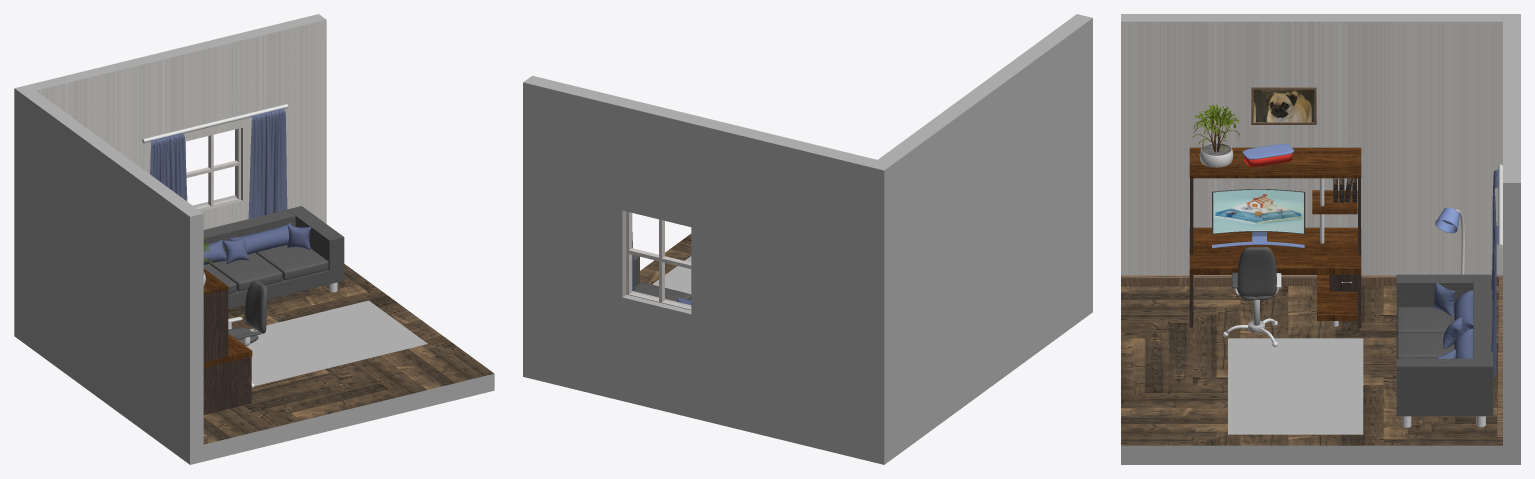
Rendered from night-room.glb.
3 views of the same model, side by side, from view 1: azimuth 30°, elevation 25°; view 2: azimuth 150°, elevation 25°; view 3: azimuth 270°, elevation 25° (orthographic). The views are drawn at different scales.
Visible parts, largest first — view 1: Plane, Plane.005, Plane.006, Cube.009, Cube, Cube.001, Plane.007, Plane.012, Cube.022, Cylinder.006, Plane.009, Plane.010; view 2: Plane, Plane.012, Plane.005; view 3: Plane, Cube.009, Plane.005, Cube, Plane.002, Plane.001, Cube.001, Plane.004, Cube.021, Plane.007, Plane.006, leaves (+6 smaller).
Boxes of the visible parts, <box> form: Plane: <box>14,14,494,464</box>; Plane.005: <box>246,300,427,385</box>; Plane.006: <box>150,108,287,218</box>; Cube.009: <box>203,268,252,414</box>; Cube: <box>203,206,344,308</box>; Cube.001: <box>203,245,328,294</box>; Plane.007: <box>203,223,291,264</box>; Plane.012: <box>185,128,240,209</box>; Cube.022: <box>244,280,265,333</box>; Cylinder.006: <box>142,104,288,143</box>; Plane.009: <box>222,236,249,263</box>; Plane.010: <box>287,225,311,249</box>; Plane: <box>523,14,1092,464</box>; Plane.012: <box>626,211,691,310</box>; Plane.005: <box>652,256,691,294</box>; Plane: <box>1121,14,1520,464</box>; Cube.009: <box>1189,147,1361,327</box>; Plane.005: <box>1228,338,1363,434</box>; Cube: <box>1396,274,1493,416</box>; Plane.002: <box>1212,189,1305,234</box>; Plane.001: <box>1121,275,1502,445</box>; Cube.001: <box>1396,306,1454,358</box>; Plane.004: <box>1251,87,1316,124</box>; Cube.021: <box>1237,247,1276,296</box>; Plane.007: <box>1454,290,1473,358</box>; Plane.006: <box>1491,170,1498,382</box>; leaves: <box>1192,104,1239,151</box>.
Bounding box in the file's own units: 8.27 × 6.44 × 8.27.
Materials: 23 (15 with a texture image).
